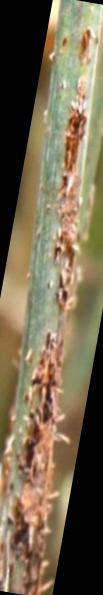Wheat: (28, 93, 88, 397)
